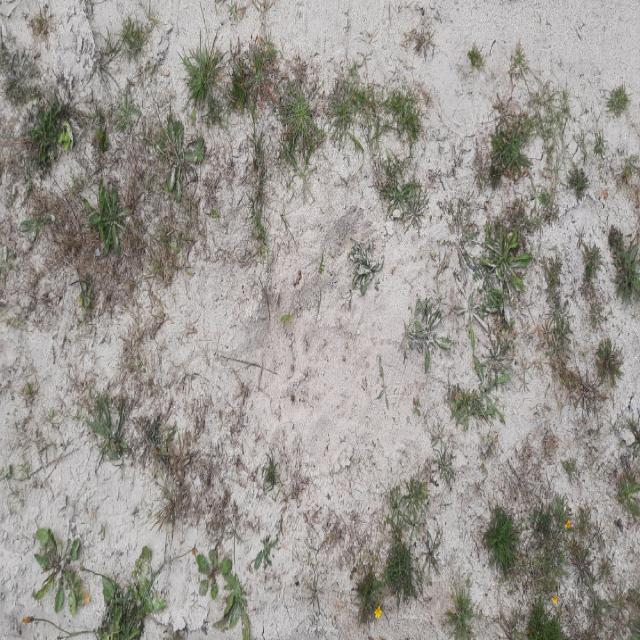grass: (180, 0, 440, 318), (438, 43, 605, 429), (0, 39, 211, 321), (480, 499, 639, 639), (356, 424, 454, 621), (537, 251, 621, 418), (95, 547, 164, 639), (191, 540, 250, 639), (145, 415, 190, 524), (400, 281, 452, 373), (35, 529, 89, 615), (95, 16, 156, 91), (86, 390, 132, 459), (346, 236, 383, 308), (578, 239, 605, 327), (608, 226, 639, 302), (445, 579, 479, 639), (616, 459, 639, 520), (605, 85, 630, 117), (467, 43, 485, 70)
